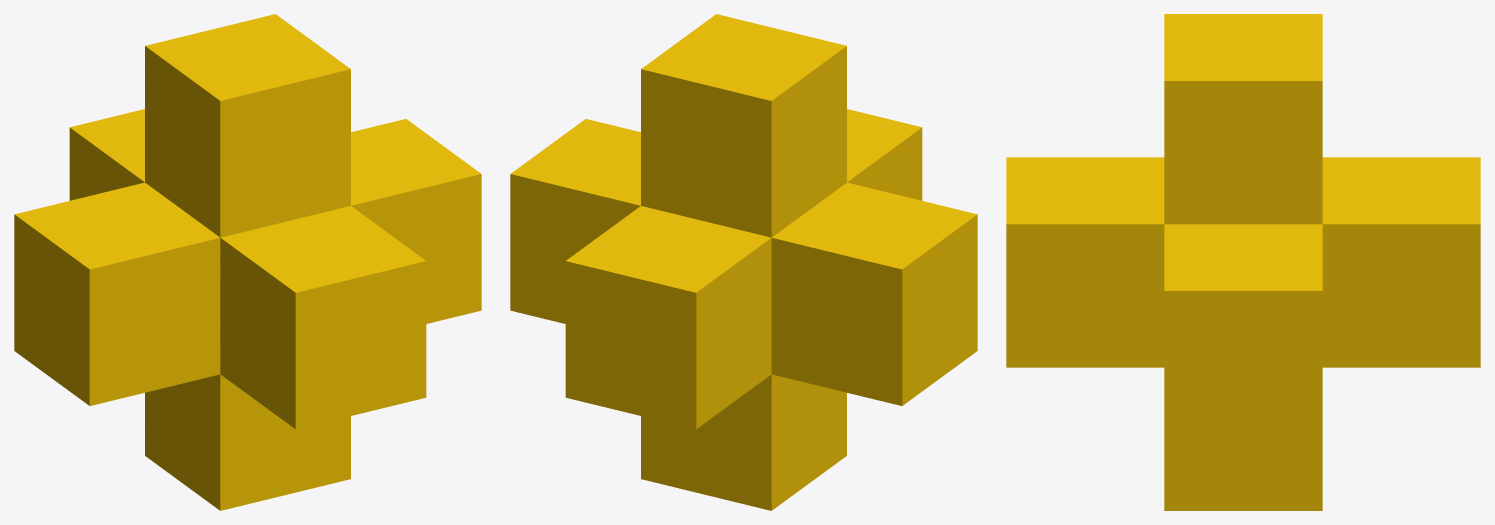
File: Cross.fbx
The picture shows the model from 3 angles, left to right: view 1: azimuth 30°, elevation 25°; view 2: azimuth 150°, elevation 25°; view 3: azimuth 270°, elevation 25°; orthographic projection. The views are drawn at different scales.
Parts seen in each view (by area): view 1: Cross; view 2: Cross; view 3: Cross.
Part boxes in pixels (bbox=[...]): Cross: bbox=[14, 14, 481, 510]; Cross: bbox=[510, 14, 977, 510]; Cross: bbox=[1006, 14, 1480, 510].
Bounding box in the file's own units: 30 × 30 × 30.
